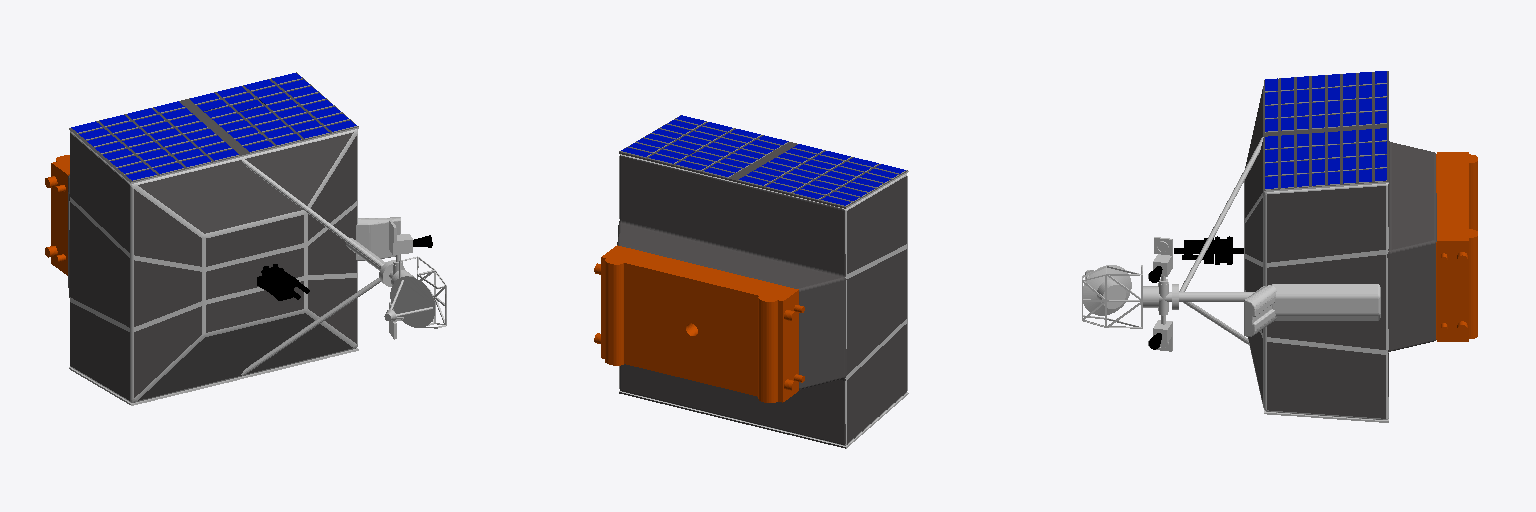
File: chassis.obj
3 renders of one model, left to right at view 1: azimuth 30°, elevation 25°; view 2: azimuth 150°, elevation 25°; view 3: azimuth 270°, elevation 25°, orthographic.
Visible parts, largest first — view 1: viper_chassis; view 2: viper_chassis; view 3: viper_chassis.
Boxes of the visible parts, box(x1,y1,x2,y2) form: viper_chassis: box(45, 72, 446, 405); viper_chassis: box(594, 115, 908, 448); viper_chassis: box(1082, 71, 1477, 422).
Bounding box in the file's own units: 1.75 × 1.53 × 2.26.